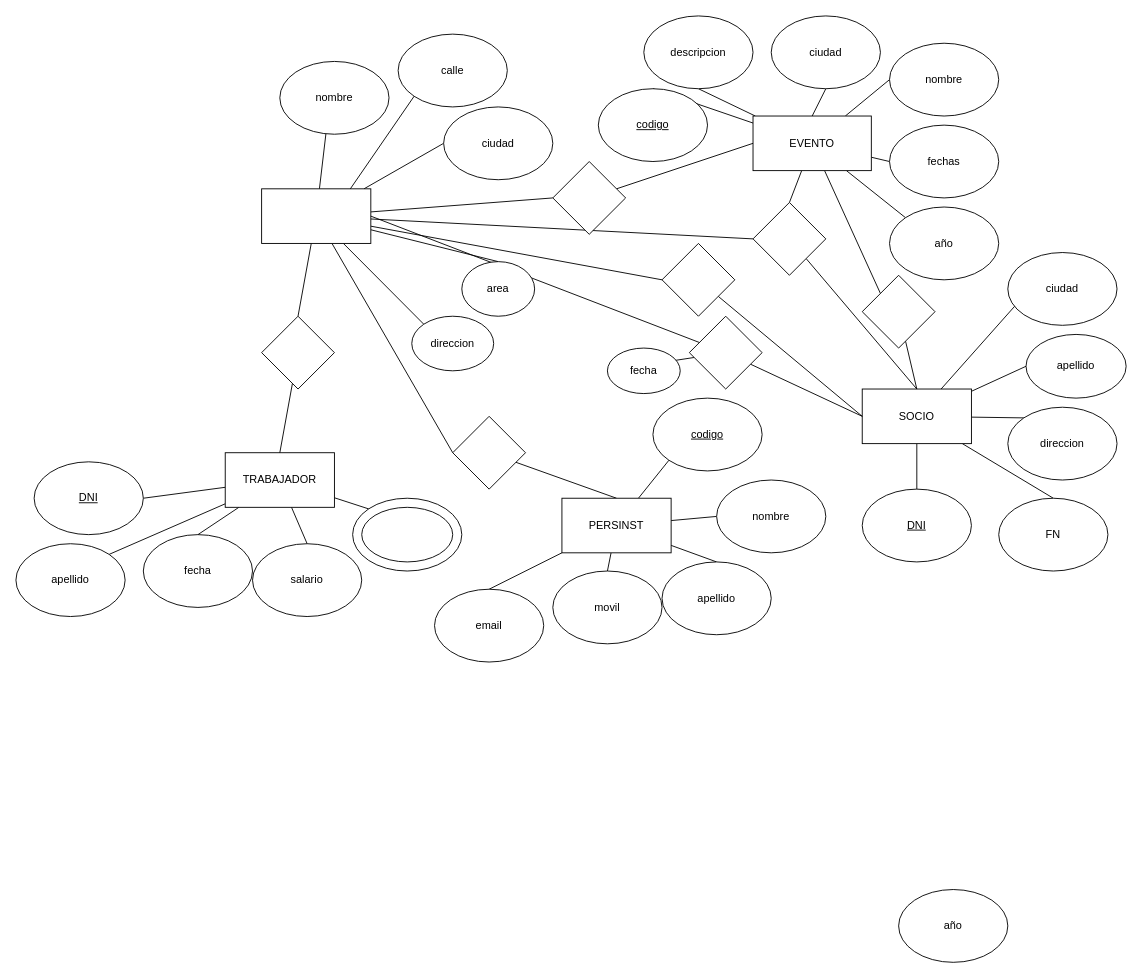
The diagram is 1142 pixels wide and 978 high, and some of its shapes have lost their labels. The centre of each missing label's shape, as x and y in pixels:
"AYUDA" belongs at [489,452].
"COORDINA" belongs at [898,311].
"ONG" belongs at [316,215].
"ORGANIZA" belongs at [589,197].
"PARTICIPA" belongs at [789,238].
"PERTENECE" belongs at [698,279].
"PRESIDE" belongs at [725,352].
"telefonos" belongs at [407,534].
"TIENE" belongs at [297,352].
